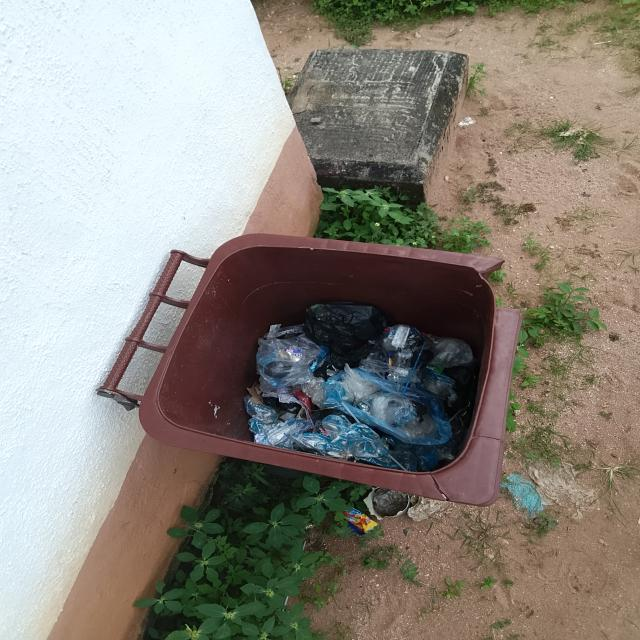half-full: (154, 231, 512, 482)
